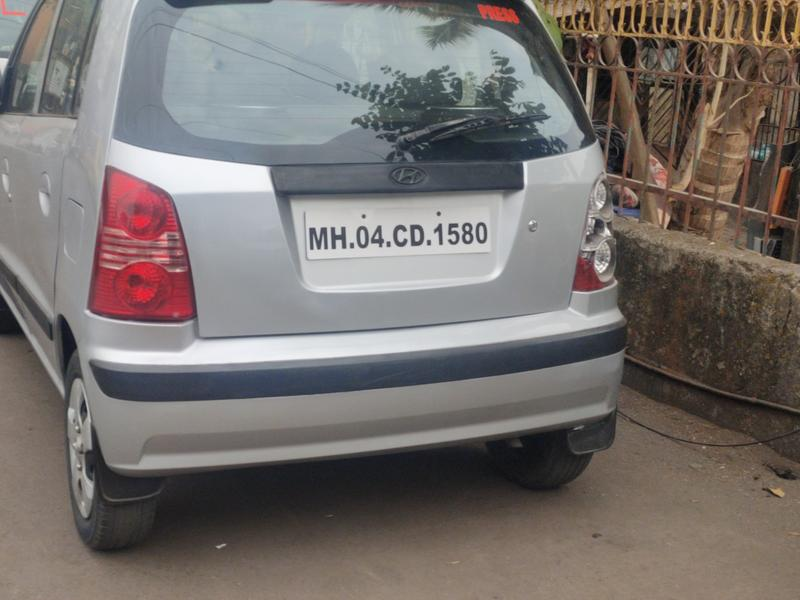license_plate: (297, 198, 503, 260)
